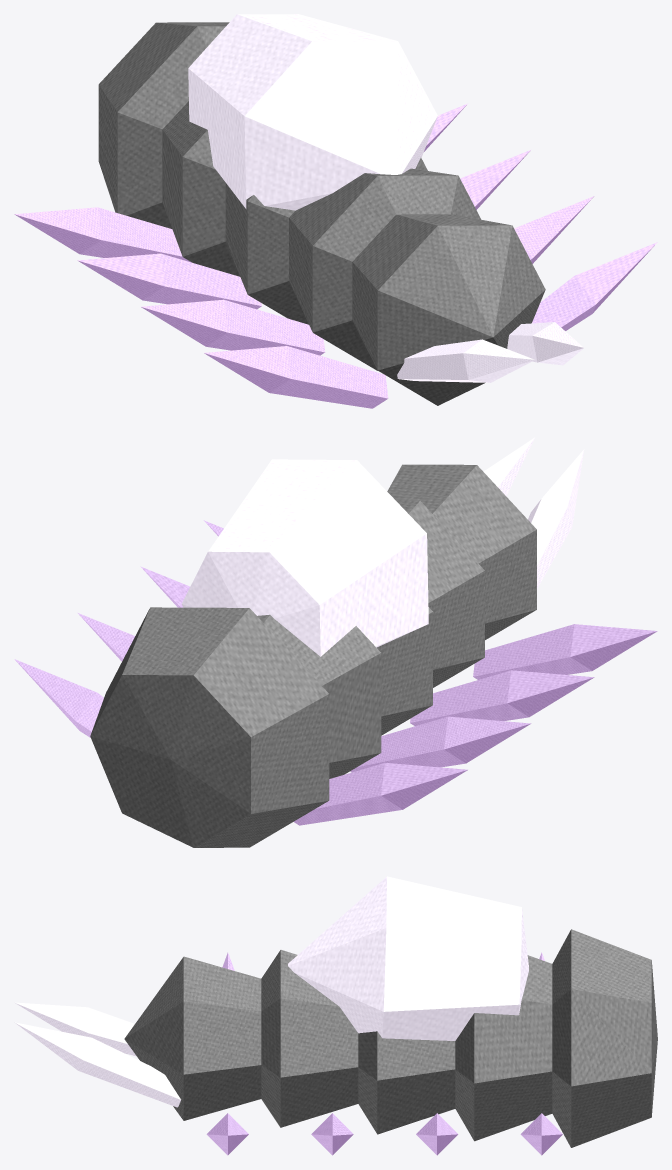
File: deep-fracture-creature-CrystalParasite-seidr.glb
3 views of the same model, one above another, from view 1: azimuth 30°, elevation 25°; view 2: azimuth 150°, elevation 25°; view 3: azimuth 270°, elevation 25° (orthographic). The views are drawn at different scales.
Parts seen in each view (by area): view 1: regrowth-core, body4, body3, body0, body1, hook-l3, body2, hook-l2, hook-l1, hook-l0, feeding-spike-left, hook-r3 (+3 smaller); view 2: body0, regrowth-core, body4, body1, body3, hook-l3, hook-l2, hook-l0, hook-l1, body2, feeding-spike-left, hook-r0 (+3 smaller); view 3: regrowth-core, body0, body4, body3, body1, body2, feeding-spike-right, feeding-spike-left, hook-r0, hook-r1, hook-r3, hook-r2.
Part boxes in pixels (<box>): regrowth-core: <box>188,14,437,210</box>; body4: <box>352,214,545,405</box>; body3: <box>289,168,480,370</box>; body0: <box>98,22,229,228</box>; body1: <box>162,101,239,276</box>; hook-l3: <box>204,346,388,408</box>; body2: <box>225,158,427,324</box>; hook-l2: <box>141,299,325,355</box>; hook-l1: <box>77,253,261,309</box>; hook-l0: <box>14,207,191,262</box>; feeding-spike-left: <box>397,339,534,382</box>; hook-r3: <box>532,242,657,330</box>; body0: <box>90,607,329,847</box>; regrowth-core: <box>182,459,428,656</box>; body4: <box>387,464,536,639</box>; body1: <box>257,614,381,778</box>; body3: <box>396,500,484,687</box>; hook-l3: <box>473,624,657,679</box>; hook-l2: <box>410,670,594,725</box>; hook-l0: <box>293,763,467,825</box>; hook-l1: <box>350,716,531,772</box>; body2: <box>377,607,432,735</box>; feeding-spike-left: <box>528,449,584,588</box>; hook-r0: <box>14,659,103,737</box>; regrowth-core: <box>288,876,528,1040</box>; body0: <box>552,929,657,1147</box>; body4: <box>124,956,261,1120</box>; body3: <box>261,950,358,1127</box>; body1: <box>455,955,552,1141</box>; body2: <box>358,1031,455,1134</box>; feeding-spike-right: <box>14,1022,180,1107</box>; feeding-spike-left: <box>14,1002,136,1056</box>; hook-r0: <box>520,1113,562,1155</box>; hook-r1: <box>416,1113,458,1155</box>; hook-r3: <box>206,1113,248,1155</box>; hook-r2: <box>311,1113,353,1155</box>.
Bounding box in the file's own units: 1.12 × 0.7201 × 1.66.
4 materials, 4 textured.
